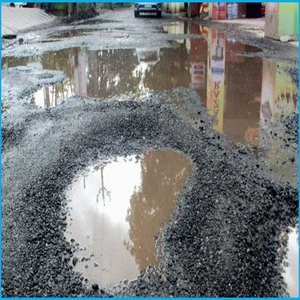pothole: (48, 140, 200, 296)
